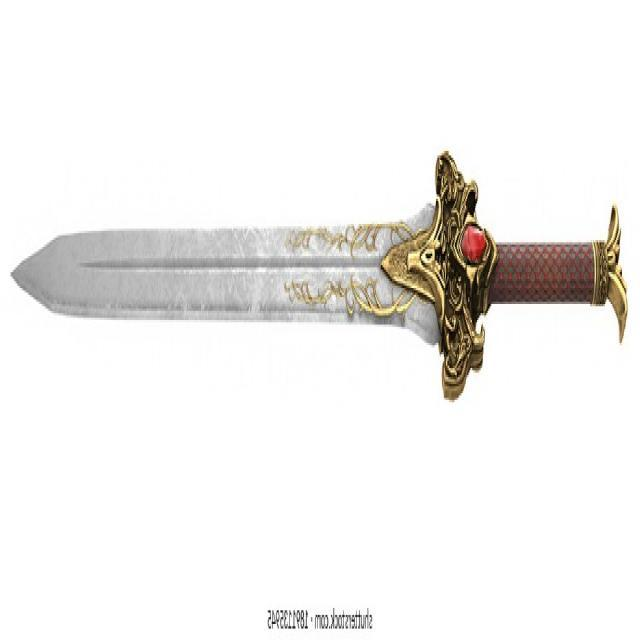sword: (7, 138, 633, 427)
